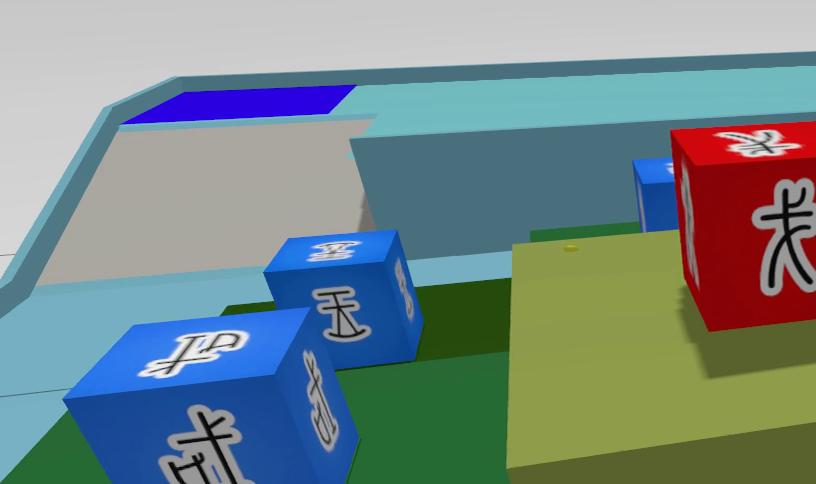KFS_FAKE: (671, 121, 816, 330), (752, 180, 816, 296), (713, 129, 803, 156)
KFS_REAL: (65, 310, 358, 484), (264, 230, 424, 368), (159, 405, 255, 484), (138, 330, 249, 378), (303, 350, 338, 451)
